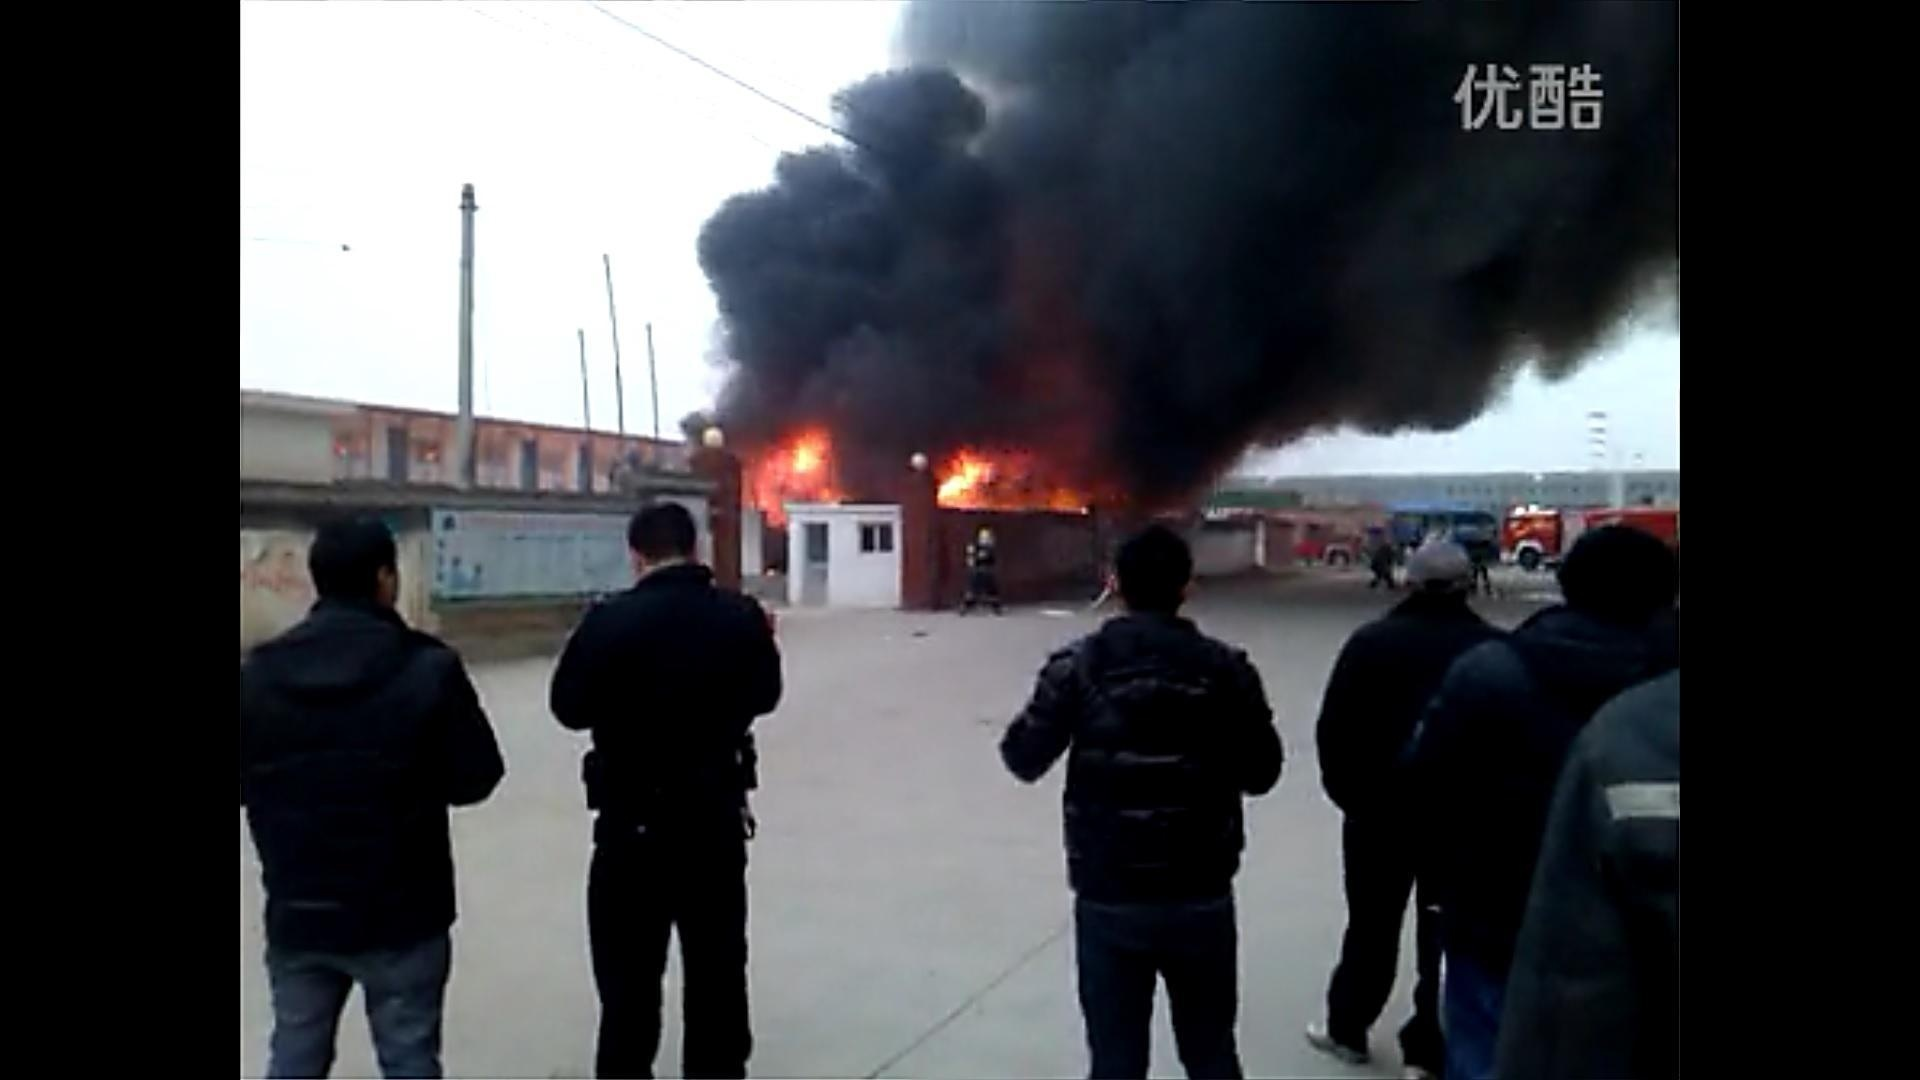fire: (934, 444, 1092, 514), (745, 430, 837, 509)
